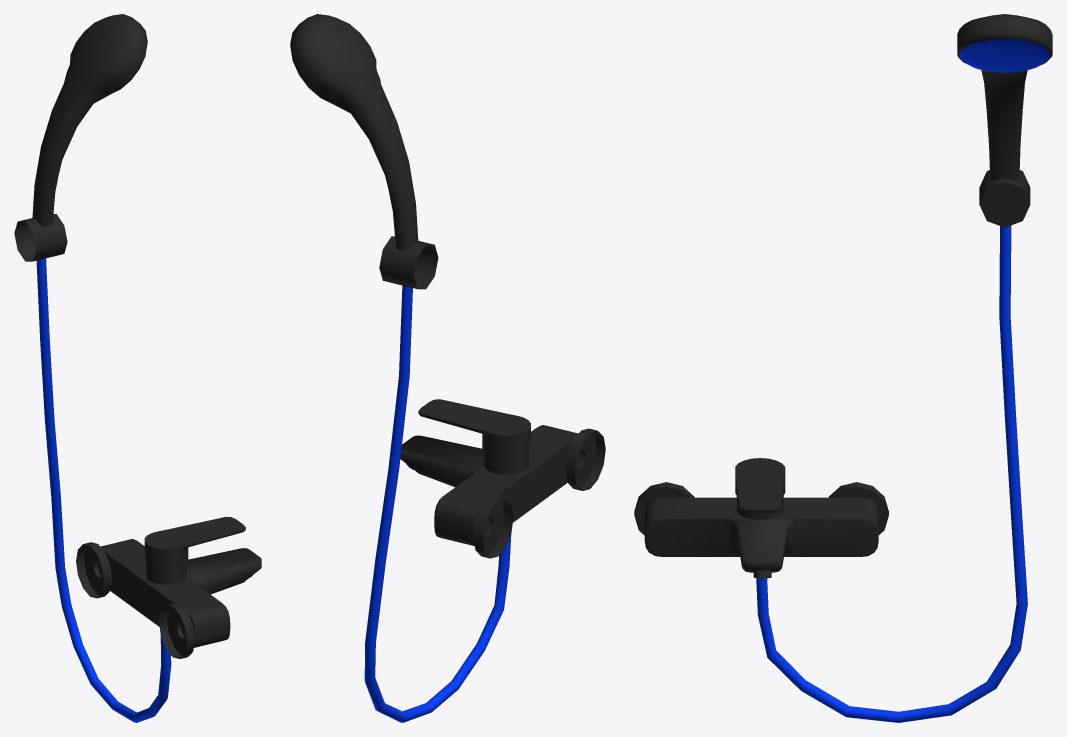
The model's file is Bateria_vana_IDEALSTANDARD.FBX.
3 renders of one model, left to right at view 1: azimuth 30°, elevation 25°; view 2: azimuth 150°, elevation 25°; view 3: azimuth 270°, elevation 25°, orthographic. The views are drawn at different scales.
Visible parts, largest first — view 1: Bateria_vana_IDEALSTANDARD; view 2: Bateria_vana_IDEALSTANDARD; view 3: Bateria_vana_IDEALSTANDARD.
Part boxes in pixels (x1,y1,x2,y2): Bateria_vana_IDEALSTANDARD: (14, 14, 261, 722); Bateria_vana_IDEALSTANDARD: (290, 14, 605, 722); Bateria_vana_IDEALSTANDARD: (634, 14, 1052, 722).
Size of the model in its own units: 15.29 by 75.97 by 39.02.
